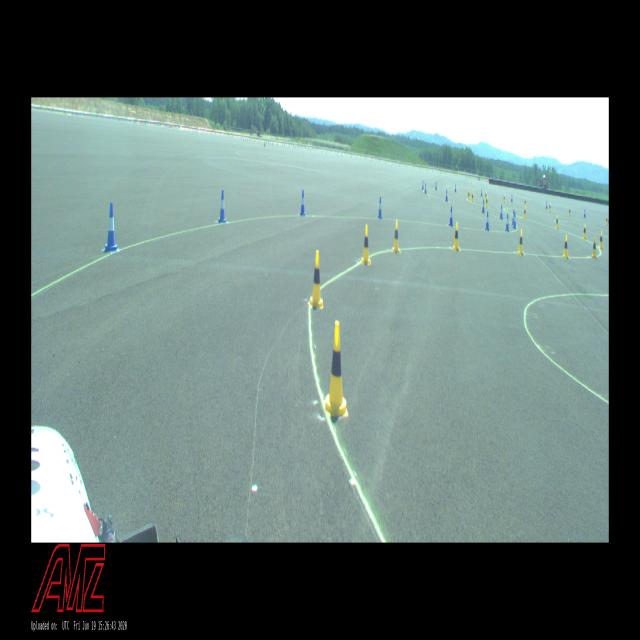blue_cone: (105, 202, 117, 252), (218, 190, 226, 223), (300, 188, 306, 216), (448, 207, 454, 226), (378, 196, 382, 219), (505, 214, 510, 232), (485, 211, 489, 231), (499, 204, 504, 220), (511, 208, 515, 224), (481, 199, 485, 214), (513, 211, 516, 229), (445, 188, 448, 202), (424, 182, 426, 194), (422, 180, 424, 190), (546, 200, 548, 210), (584, 208, 586, 218), (435, 181, 437, 190), (480, 188, 482, 197), (454, 184, 456, 192), (511, 194, 513, 202), (608, 215, 608, 224)
yellow_cone: (324, 321, 349, 418), (310, 250, 323, 308), (361, 224, 371, 264), (392, 219, 400, 253), (453, 222, 460, 251), (563, 234, 569, 259), (518, 229, 524, 254), (592, 236, 597, 259), (599, 230, 603, 250), (582, 223, 586, 240), (555, 215, 559, 229), (524, 207, 526, 219), (486, 197, 488, 207), (485, 190, 487, 200), (468, 191, 470, 200), (503, 194, 505, 203), (606, 216, 608, 225), (472, 193, 474, 202), (549, 203, 551, 212), (472, 189, 474, 198), (568, 208, 570, 216), (524, 198, 526, 206)
